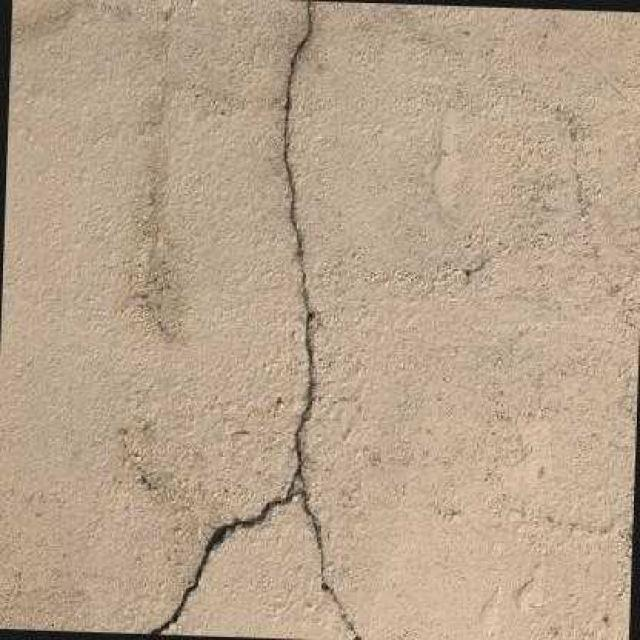D00: (147, 0, 358, 640)
